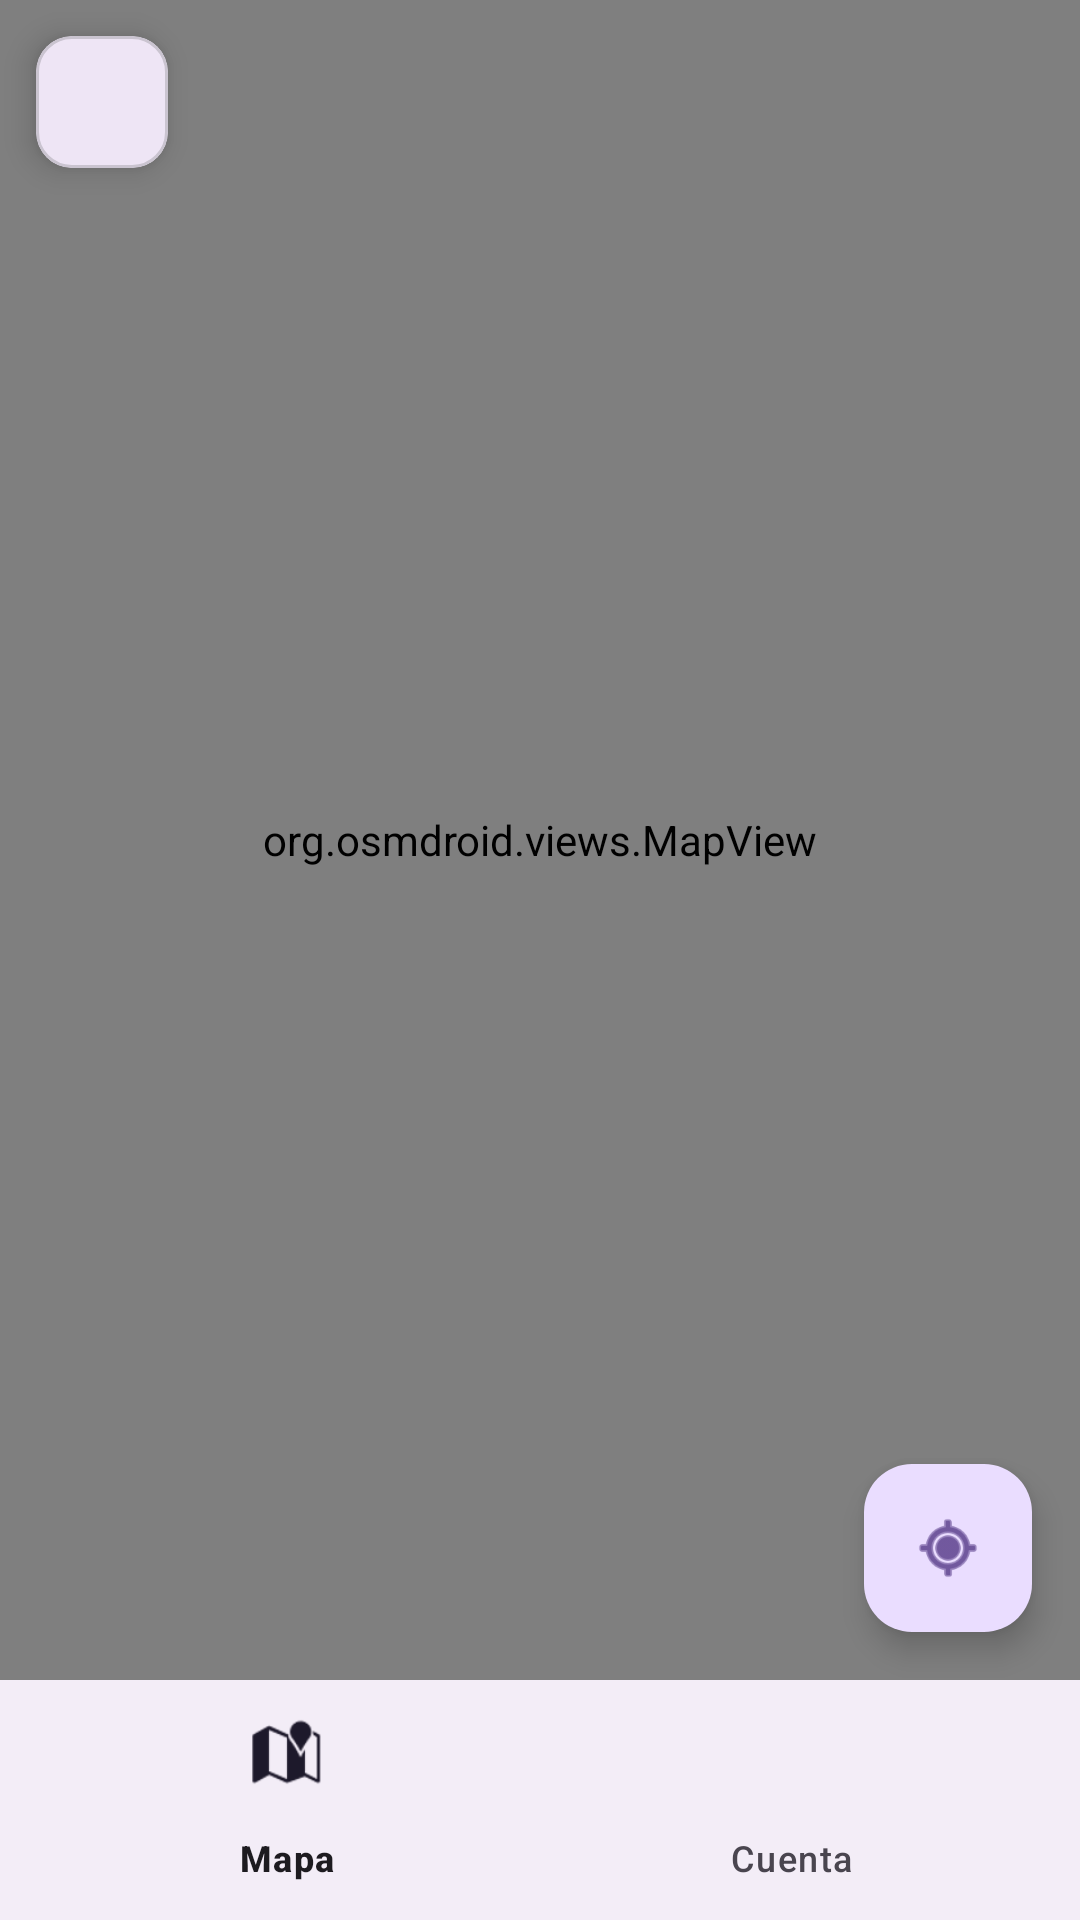

Where icons sit on this 1080x1920 app screen, as (x1, y1, x2, y2):
Mi ubicación: (864, 1464, 1032, 1632)
